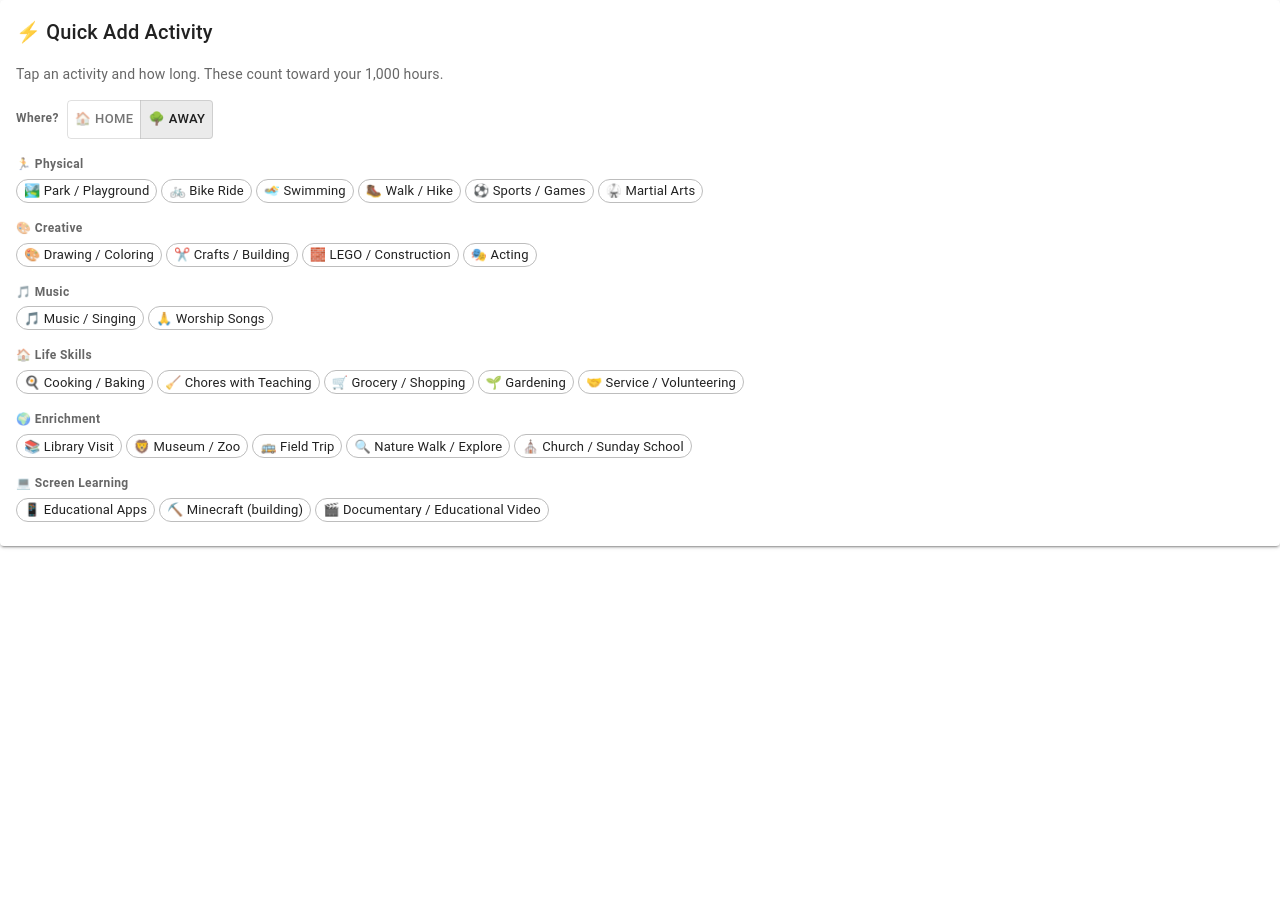
Test: QuickAddHours — a child switch clears the pending entry › drops a ready-to-log selection instead of writing it for the new child
Click the button "🦁 Museum / Zoo" at (187, 446), box [126,434,248,458]
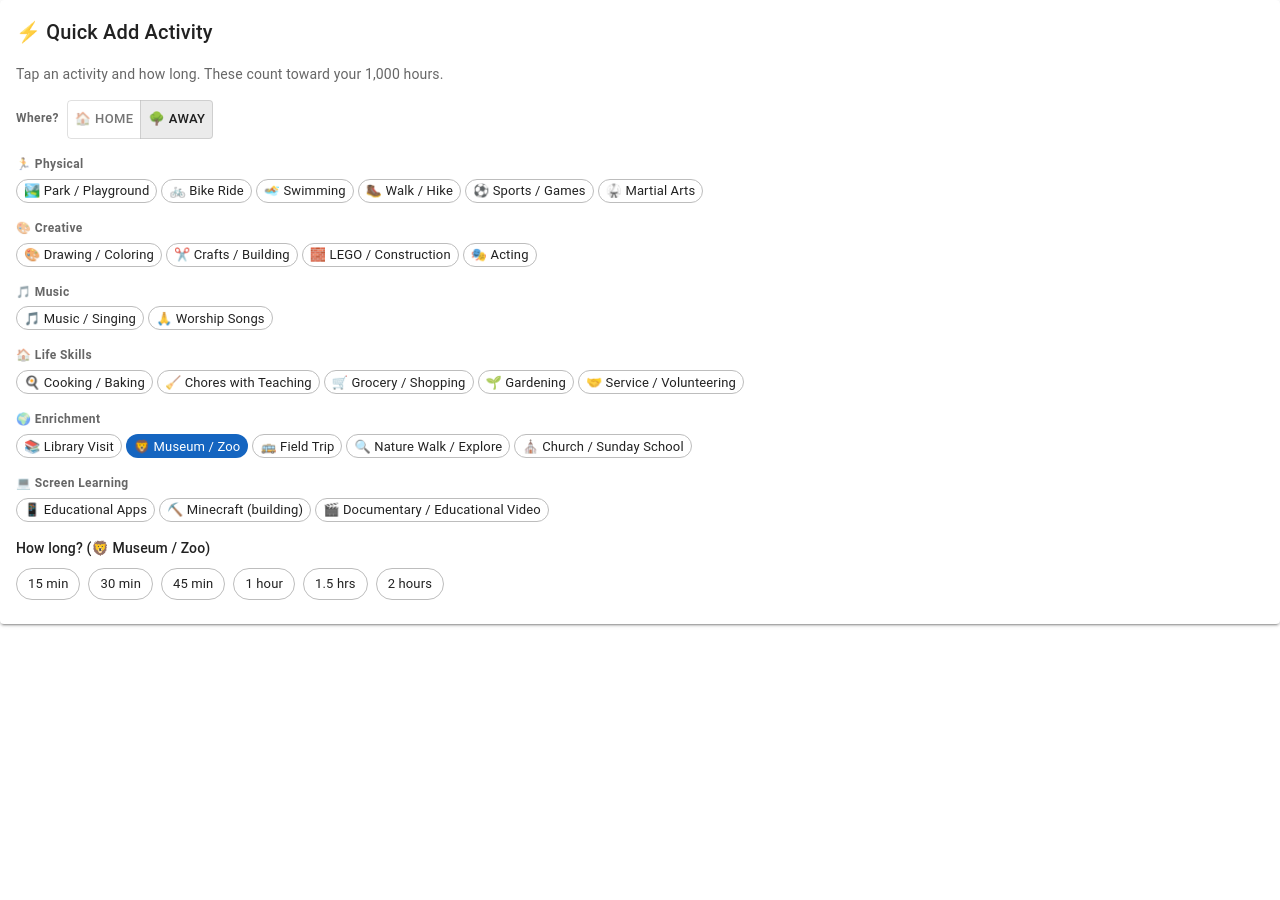
Click the button "1 hour" at (264, 584), box [234,568,295,600]
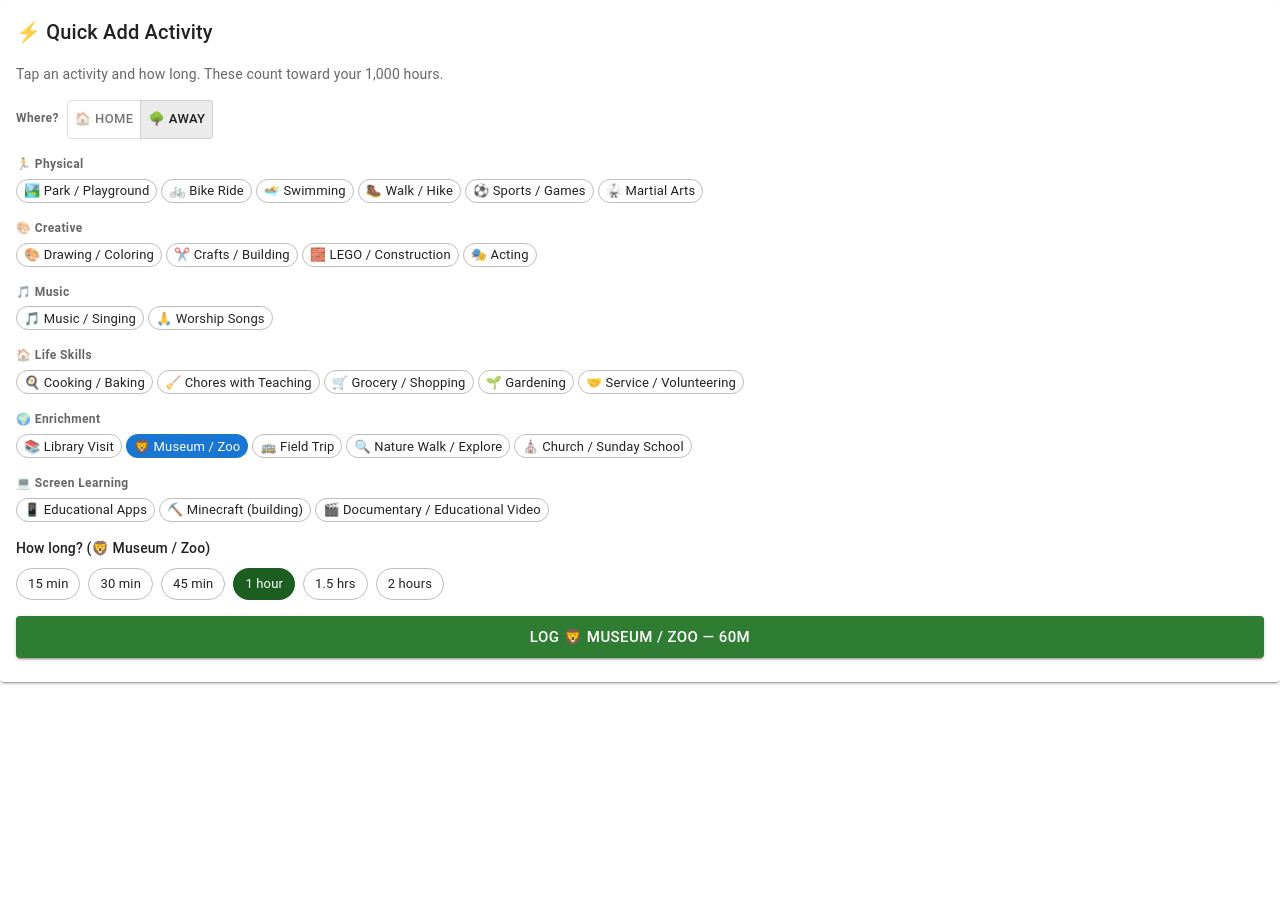
Expected: the button "Log 🦁 Museum / Zoo — 60m" is shown, [16,616,1264,658]
